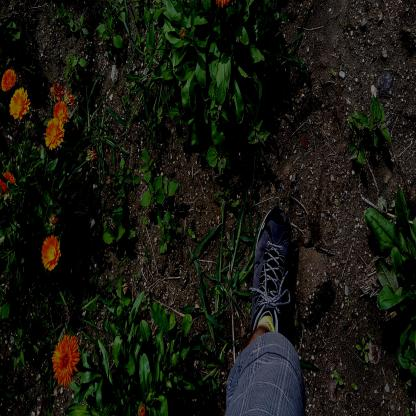marigold: (52, 336, 78, 376), (41, 235, 60, 267), (9, 89, 30, 117), (46, 118, 63, 148), (53, 102, 70, 122), (1, 68, 14, 90)
